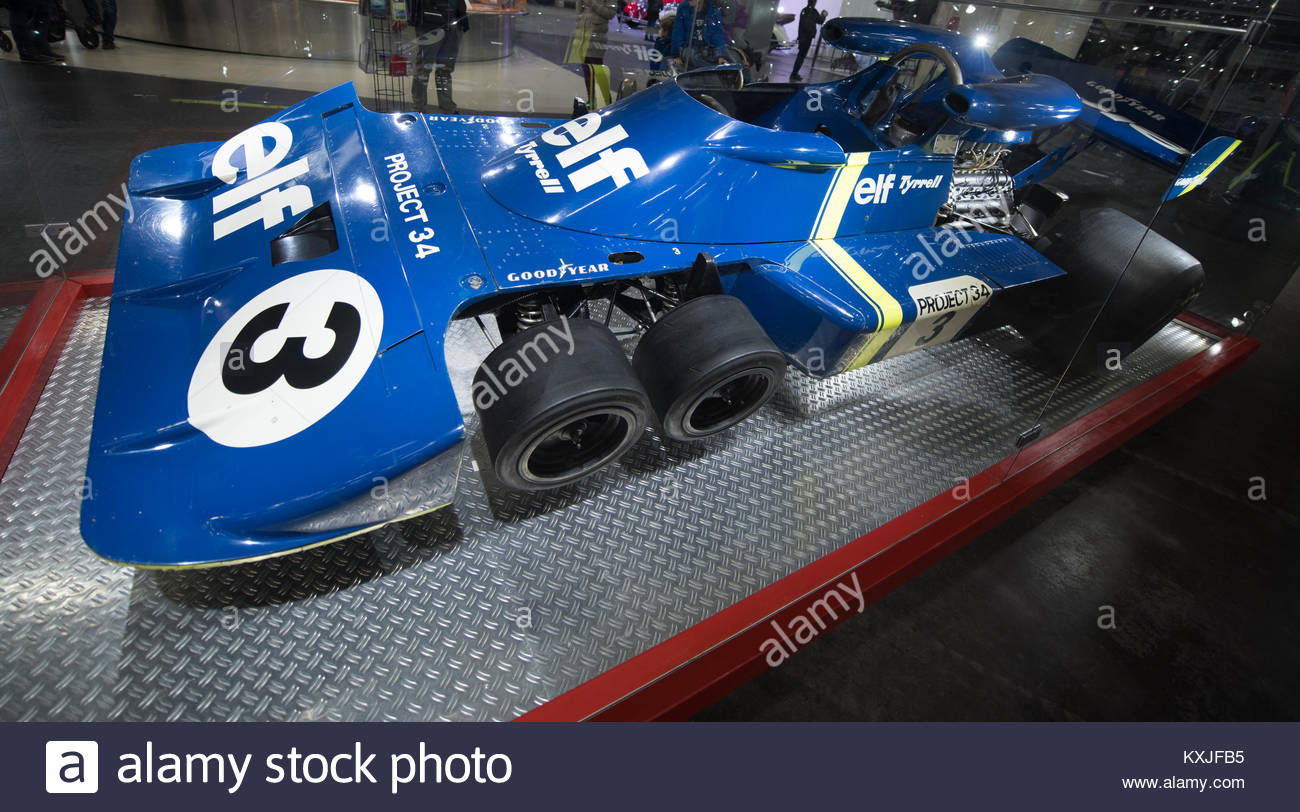f1_car: (64, 5, 1263, 607)
